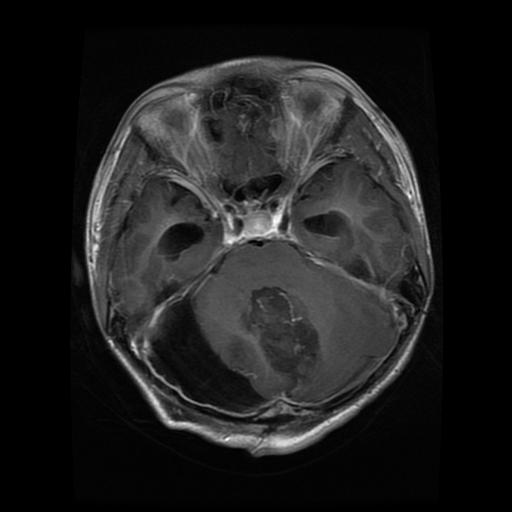Gliomia_tumour: (241, 283, 322, 374)
